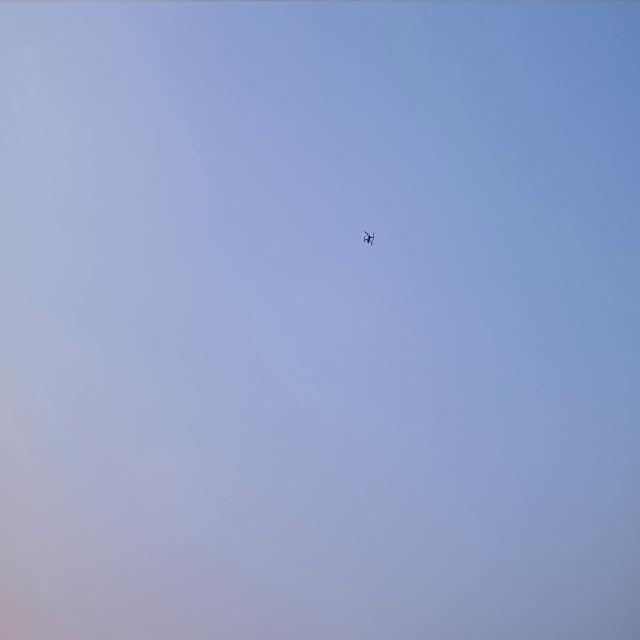UAV: (363, 228, 376, 249)
